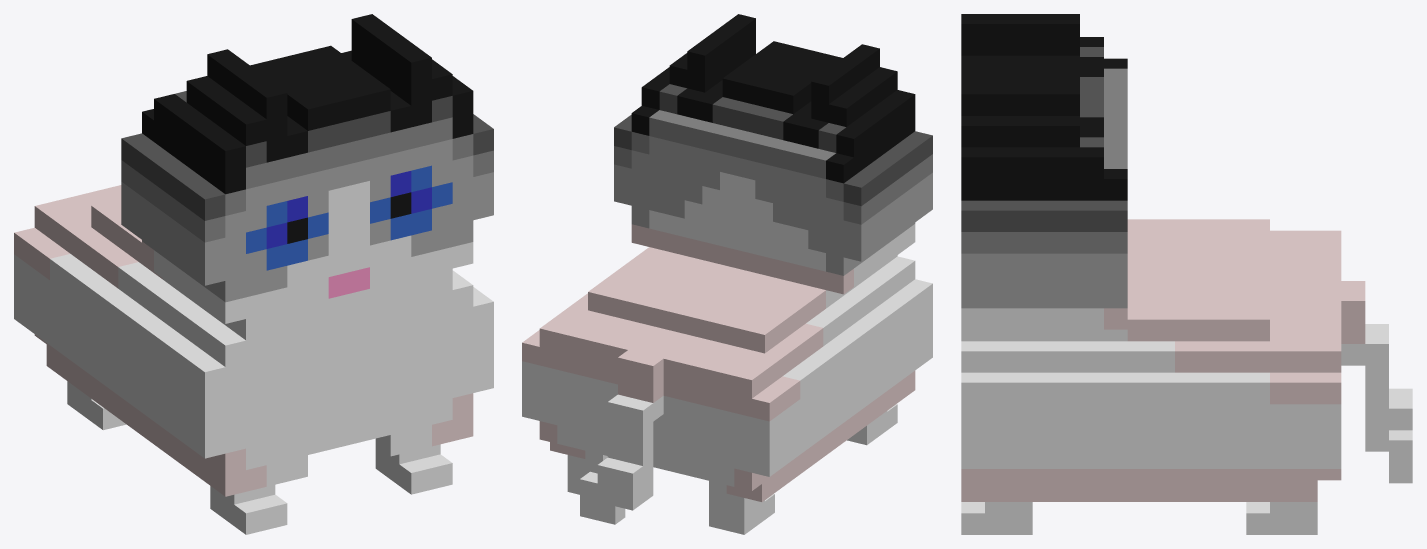
The model's file is Cat_RagDoll.obj.
3 views of the same model, side by side, from view 1: azimuth 30°, elevation 25°; view 2: azimuth 150°, elevation 25°; view 3: azimuth 270°, elevation 25° (orthographic). The views are drawn at different scales.
Parts seen in each view (by area): view 1: Cat_RagDoll; view 2: Cat_RagDoll; view 3: Cat_RagDoll.
Boxes of the visible parts, <box> form: Cat_RagDoll: <box>14,14,493,534</box>; Cat_RagDoll: <box>522,14,932,534</box>; Cat_RagDoll: <box>961,14,1412,534</box>.
Bounding box in the file's own units: 14 × 20 × 19.
Materials: 1 (1 with a texture image).
